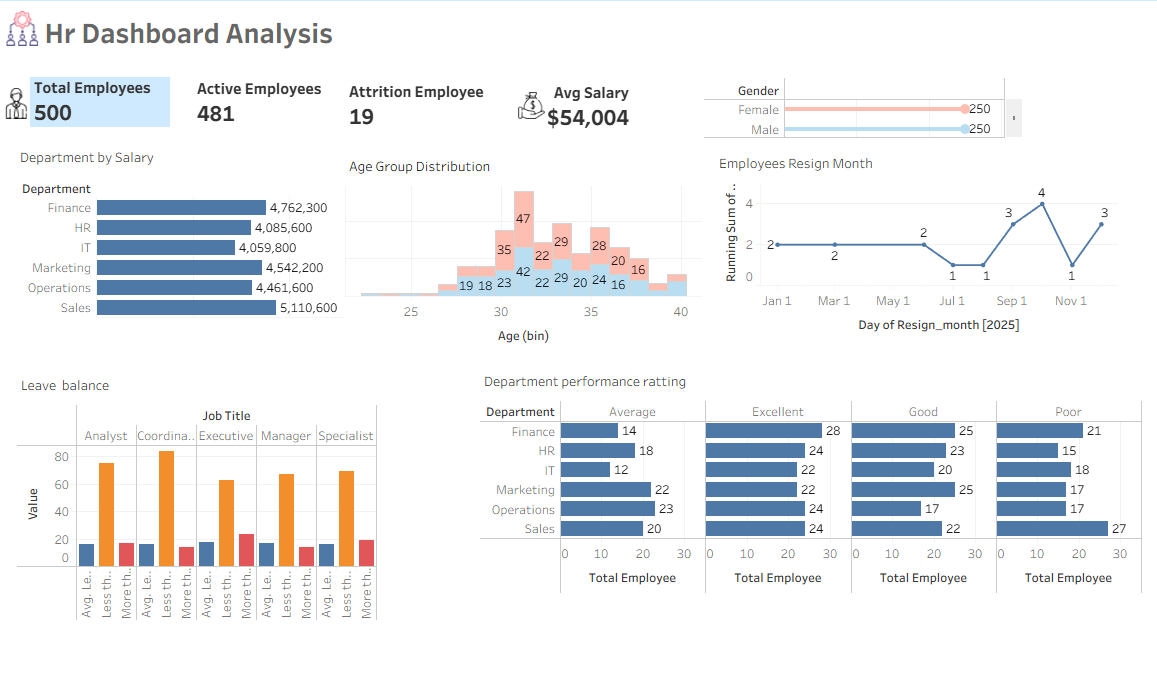

The dashboard page shown, as its layout file describes it:
{"tool":"tableau","page":{"name":"Dashboard 1","canvas":[1600,900],"ordinal":0},"visuals":[{"type":"blank","box":[8,8,1416,884]},{"type":"legend","title":"Sheet 22","param":"[federated.0eev0m21mhg3jm0zlhg9i0nwhwmb].[none:Gender:nk]","box":[1424,8,168,884]},{"type":"text","box":[43,9,436,44]},{"type":"image","param":"Image/management.png","box":[6,10,38,35]},{"type":"worksheet","title":"KP1","mark":"Automatic","box":[31,61,161,74]},{"type":"worksheet","title":"KP2","mark":"Automatic","box":[194,62,148,125]},{"type":"worksheet","title":"Sheet 17","mark":"Automatic","rows":["Gender"],"cols":["Calculation_1155736260561068032","Calculation_1155736260561068032"],"box":[705,62,318,75]},{"type":"worksheet","title":"KP3","mark":"Automatic","box":[346,65,167,146]},{"type":"worksheet","title":"KP4","mark":"Automatic","box":[534,66,321,68]},{"type":"image","param":"Image/employee (1).png","box":[2,87,31,35]},{"type":"image","param":"Image/salary.png","box":[519,91,27,33]},{"type":"worksheet","title":"Sheet 2","mark":"Automatic","rows":["Department"],"cols":["Sheet1_AF4CD60F9DE041F09F901942FB588E64"],"box":[17,143,335,193]},{"type":"worksheet","title":"Sheet 20","mark":"Automatic","cols":["Calculation_476537142093459457"],"box":[716,149,403,190]},{"type":"worksheet","title":"Sheet 23","mark":"Automatic","rows":["Age"],"cols":["Age (bin)"],"box":[346,152,357,198]},{"type":"worksheet","title":"Sheet 22","mark":"Bar","rows":["Department"],"cols":["Performance_Rating","Calculation_1155736260561068032"],"box":[481,367,662,226]},{"type":"worksheet","title":"Sheet 18","mark":"Automatic","cols":["Job_Title"],"box":[18,371,454,250]}]}

Visuals, with their boxes on the page's 1600x900 design canvas (x1, y1, x2, y2). These are canvas units, not pixel positions in the 1157x678 screenshot, which may show the page scaled, cropped or inside an application window:
blank: 8, 8, 1424, 892
"Sheet 22" legend: 1424, 8, 1592, 892
text: 43, 9, 479, 53
image: 6, 10, 44, 45
"KP1" worksheet: 31, 61, 192, 135
"KP2" worksheet: 194, 62, 342, 187
"Sheet 17" worksheet: 705, 62, 1023, 137
"KP3" worksheet: 346, 65, 513, 211
"KP4" worksheet: 534, 66, 855, 134
image: 2, 87, 33, 122
image: 519, 91, 546, 124
"Sheet 2" worksheet: 17, 143, 352, 336
"Sheet 20" worksheet: 716, 149, 1119, 339
"Sheet 23" worksheet: 346, 152, 703, 350
"Sheet 22" worksheet (Bar marks): 481, 367, 1143, 593
"Sheet 18" worksheet: 18, 371, 472, 621
